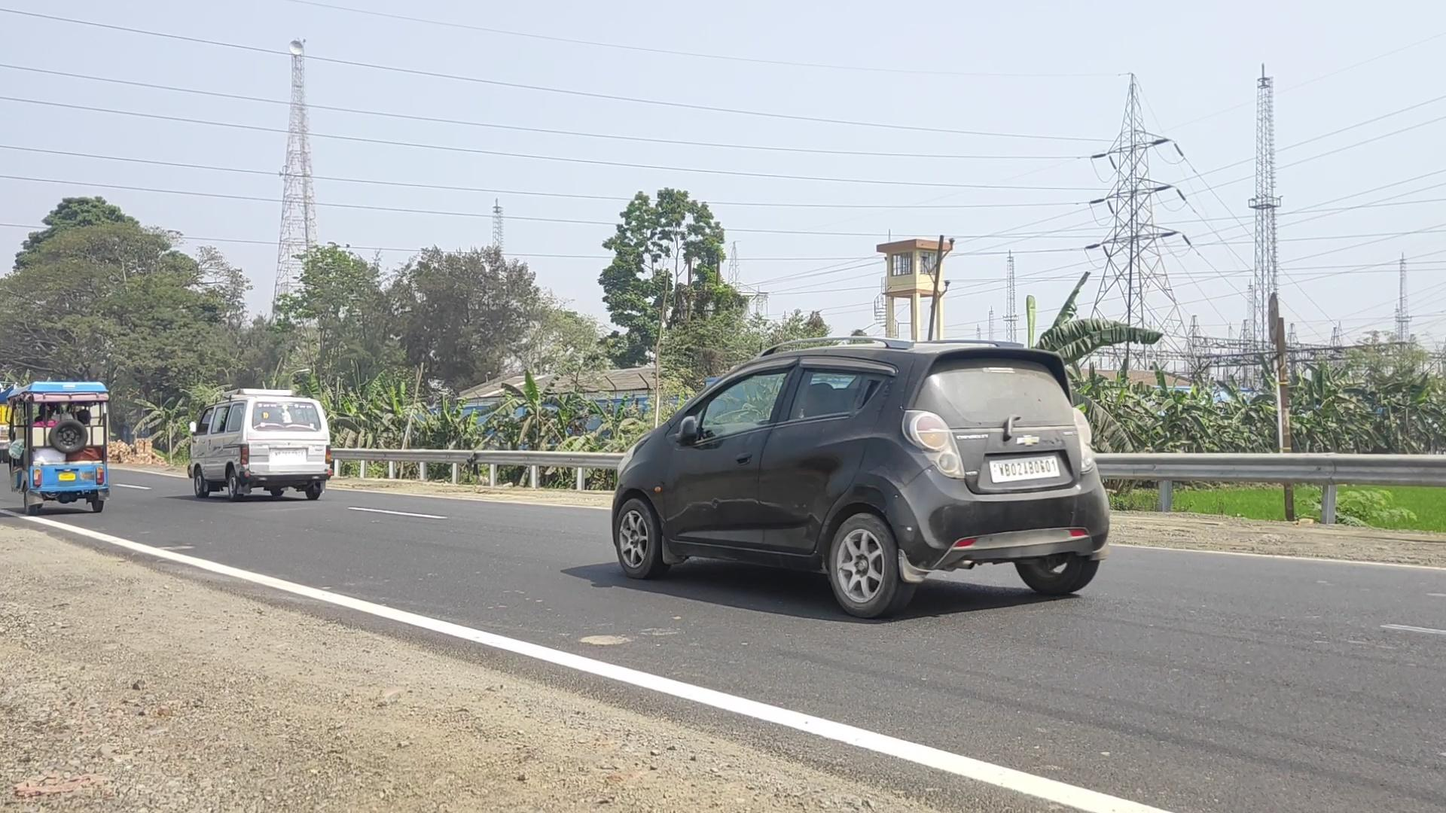Auto: (5, 380, 111, 516)
car: (611, 336, 1110, 619)
van: (188, 388, 333, 503)
